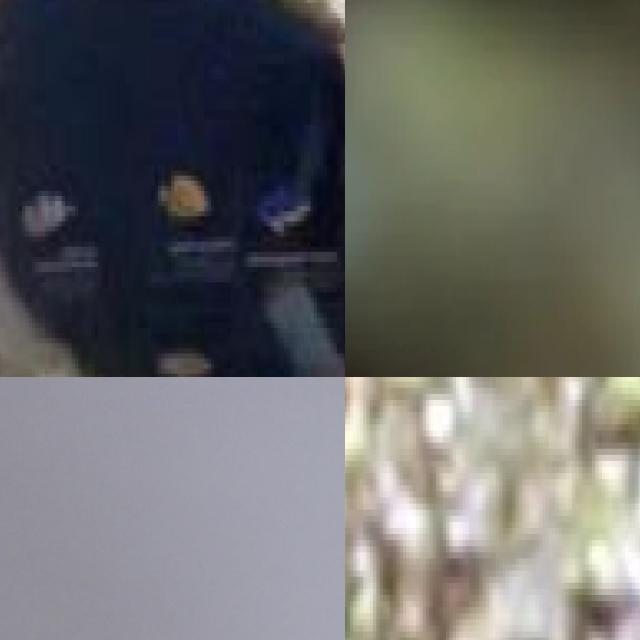fish: (0, 0, 345, 377), (345, 0, 640, 377), (345, 377, 509, 640)
